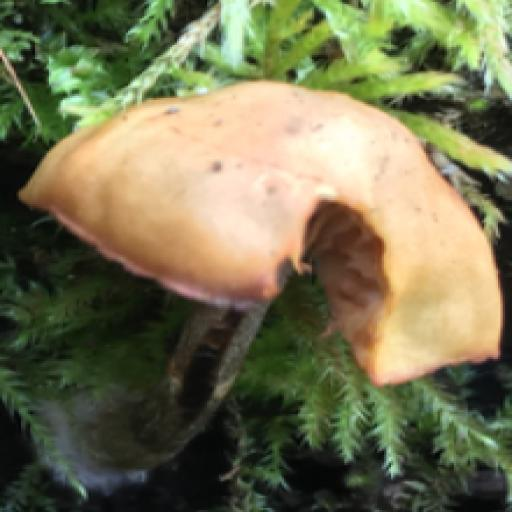Funeral Bell: (19, 80, 496, 445)
